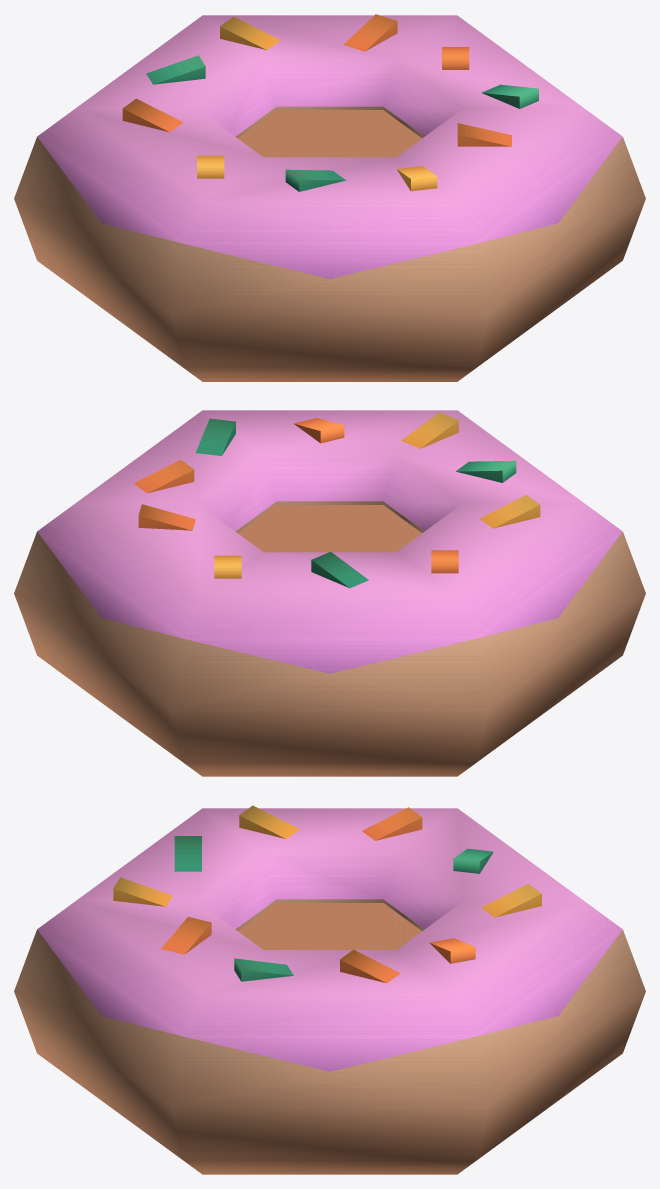
Rendered from Toy_Ring.glb.
3 renders of one model, top to bottom at view 1: azimuth 30°, elevation 25°; view 2: azimuth 150°, elevation 25°; view 3: azimuth 270°, elevation 25°, orthographic.
Parts seen in each view (by area): view 1: Toy_Ring; view 2: Toy_Ring; view 3: Toy_Ring.
Part boxes in pixels (box(x1,y1,x2,y2)): Toy_Ring: box(14, 14, 645, 381); Toy_Ring: box(14, 410, 645, 776); Toy_Ring: box(14, 805, 645, 1174).
Size of what is drawn, in the model's own units: 0.2451 by 0.095 by 0.283.
1 material, 1 textured.
